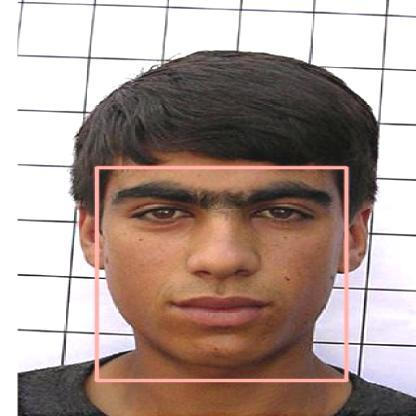without_mask: (96, 167, 346, 380)
